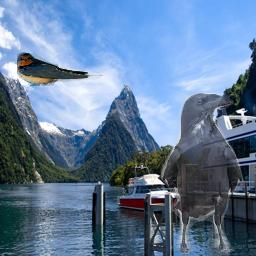Crow: (161, 92, 244, 254)
Swallow: (15, 51, 103, 86)
